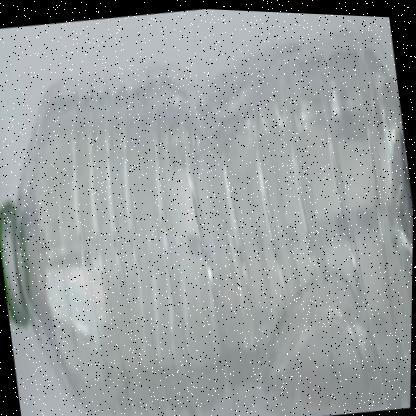open bottle: (1, 64, 173, 416)
